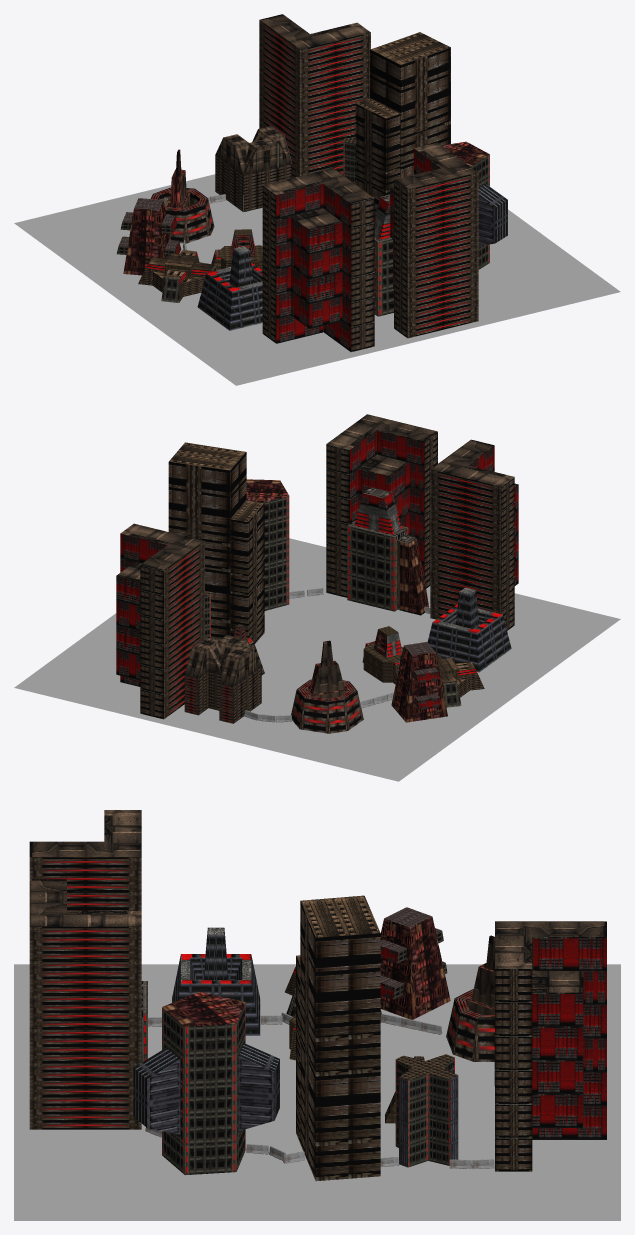
File: City.fbx
The picture shows the model from 3 angles, top to bottom: view 1: azimuth 30°, elevation 25°; view 2: azimuth 150°, elevation 25°; view 3: azimuth 270°, elevation 25°; orthographic projection. The views are drawn at different scales.
Parts seen in each view (by area): view 1: City_Streets:Ground_Plane, City_Building_012:Building_012, City_Building_011:Building_011, City_Building_006:Building_006, City_Building_009:Building_009, City_Building_003:Building_003, City_Building_005:Building_005, City_Building_001:Building_001, City_Building_010:Building_010, City_Building_004:Building_004, City_Building_002:Building_002, City_Building_008:Building_008; view 2: City_Streets:Ground_Plane, City_Building_011:Building_011, City_Building_006:Building_006, City_Building_012:Building_012, City_Building_009:Building_009, City_Building_005:Building_005, City_Building_003:Building_003, City_Building_001:Building_001, City_Building_004:Building_004, City_Building_010:Building_010, City_Building_002:Building_002; view 3: City_Streets:Ground_Plane, City_Building_011:Building_011, City_Building_006:Building_006, City_Building_009:Building_009, City_Building_010:Building_010, City_Building_012:Building_012, City_Building_003:Building_003, City_Building_008:Building_008, City_Building_001:Building_001, City_Building_004:Building_004, City_Barricade_003:Barricade_003, City_Barricade_008:Barricade_008.
Part boxes in pixels (left/top/right/bottom): City_Streets:Ground_Plane: left=14, top=174, right=620, bottom=385; City_Building_012:Building_012: left=262, top=168, right=374, bottom=351; City_Building_011:Building_011: left=374, top=142, right=478, bottom=338; City_Building_006:Building_006: left=259, top=14, right=370, bottom=177; City_Building_009:Building_009: left=355, top=32, right=450, bottom=217; City_Building_003:Building_003: left=117, top=198, right=216, bottom=302; City_Building_005:Building_005: left=215, top=125, right=292, bottom=211; City_Building_001:Building_001: left=197, top=246, right=262, bottom=330; City_Building_010:Building_010: left=442, top=141, right=507, bottom=269; City_Building_004:Building_004: left=150, top=149, right=214, bottom=243; City_Building_002:Building_002: left=211, top=229, right=262, bottom=270; City_Building_008:Building_008: left=343, top=138, right=355, bottom=183; City_Streets:Ground_Plane: left=14, top=538, right=620, bottom=781; City_Building_011:Building_011: left=326, top=414, right=437, bottom=615; City_Building_006:Building_006: left=116, top=523, right=204, bottom=719; City_Building_012:Building_012: left=430, top=439, right=518, bottom=630; City_Building_009:Building_009: left=168, top=442, right=264, bottom=643; City_Building_005:Building_005: left=184, top=634, right=261, bottom=723; City_Building_003:Building_003: left=391, top=642, right=484, bottom=722; City_Building_001:Building_001: left=427, top=587, right=511, bottom=672; City_Building_004:Building_004: left=291, top=640, right=363, bottom=733; City_Building_010:Building_010: left=246, top=479, right=289, bottom=610; City_Building_002:Building_002: left=362, top=626, right=403, bottom=684; City_Streets:Ground_Plane: left=14, top=964, right=620, bottom=1220; City_Building_011:Building_011: left=29, top=879, right=147, bottom=1129; City_Building_006:Building_006: left=495, top=921, right=606, bottom=1171; City_Building_009:Building_009: left=296, top=895, right=380, bottom=1181; City_Building_010:Building_010: left=133, top=991, right=279, bottom=1175; City_Building_012:Building_012: left=29, top=810, right=141, bottom=910; City_Building_003:Building_003: left=285, top=907, right=450, bottom=1019; City_Building_008:Building_008: left=395, top=1054, right=458, bottom=1167; City_Building_001:Building_001: left=172, top=927, right=260, bottom=1035; City_Building_004:Building_004: left=446, top=935, right=494, bottom=1061; City_Barricade_003:Barricade_003: left=380, top=1013, right=442, bottom=1034; City_Barricade_008:Barricade_008: left=246, top=1144, right=304, bottom=1163.
Size of the model in its own units: 8168 by 3620 by 8168.
23 materials, 22 textured.
